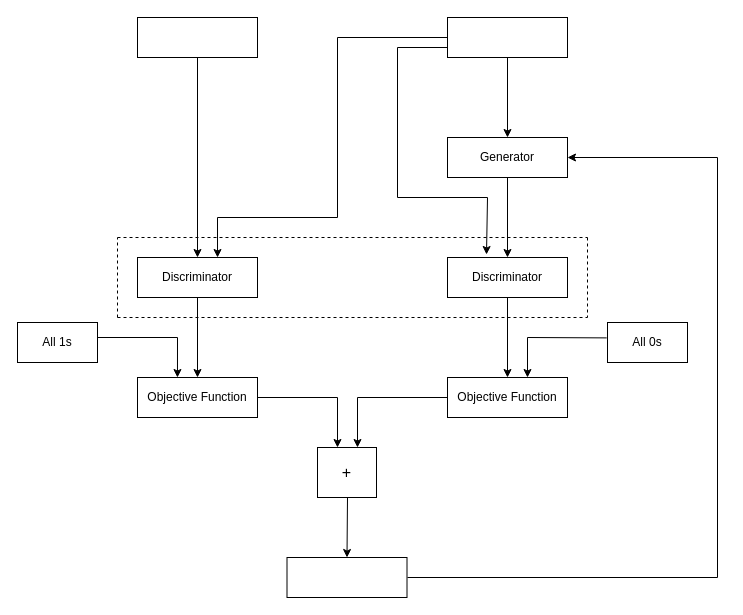
The diagram is 743 pixels wide and 615 high, and some of its shapes have lost their labels. The shapes that lost their labels are listed below. From the top down, each one's centre as x and y in pixels, then its label:
At (x=197, y=37): "Target Image".
At (x=507, y=37): "Input Image".
At (x=346, y=577): "Apply Gradients".
